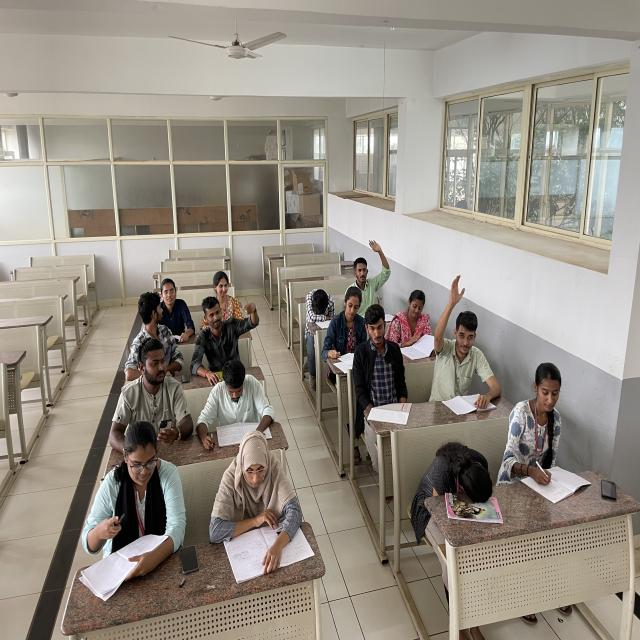Hand Rising: (437, 269, 498, 409), (350, 237, 392, 303)
Reading: (208, 437, 322, 582), (214, 356, 272, 443), (391, 285, 438, 358)
Sleeping: (416, 428, 497, 521), (301, 287, 336, 335)
Using Phone: (130, 344, 187, 450)
Writing: (512, 356, 580, 498), (327, 283, 368, 372)
